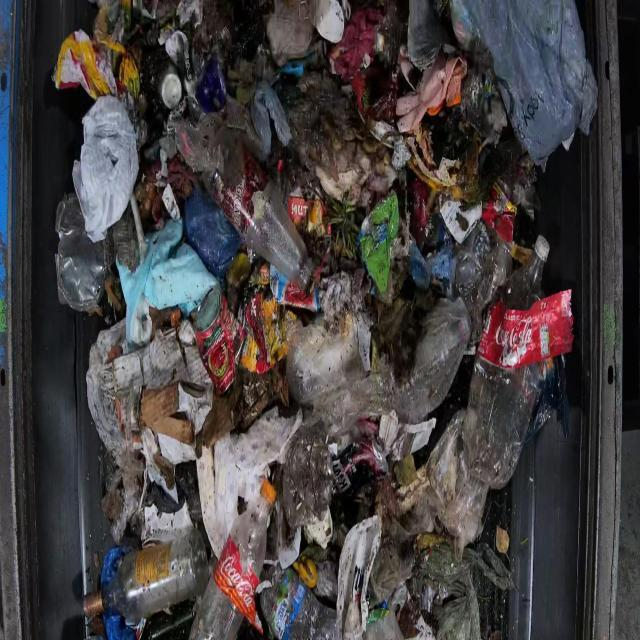cardboard: (37, 0, 601, 639)
